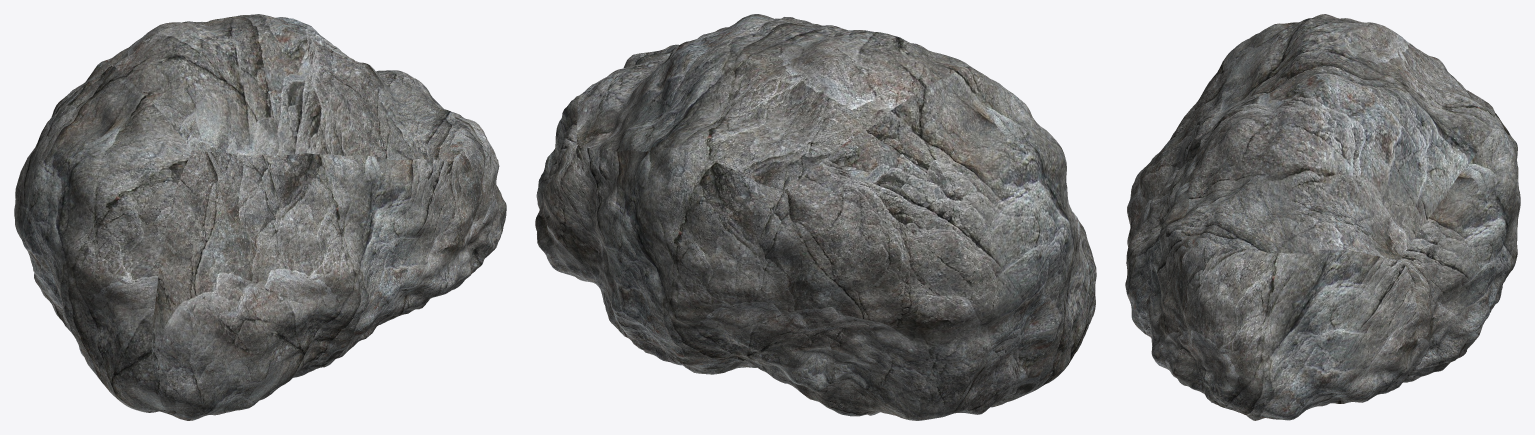
File: Rock4.obj
The picture shows the model from 3 angles, left to right: view 1: azimuth 30°, elevation 25°; view 2: azimuth 150°, elevation 25°; view 3: azimuth 270°, elevation 25°; orthographic projection. The views are drawn at different scales.
Visible parts, largest first — view 1: Cube_003; view 2: Cube_003; view 3: Cube_003.
Part boxes in pixels (<box>): Cube_003: <box>14,14,506,420</box>; Cube_003: <box>535,14,1096,420</box>; Cube_003: <box>1125,14,1520,420</box>.
Size of the model in its own units: 187 by 135 by 138.
1 material, 1 textured.
